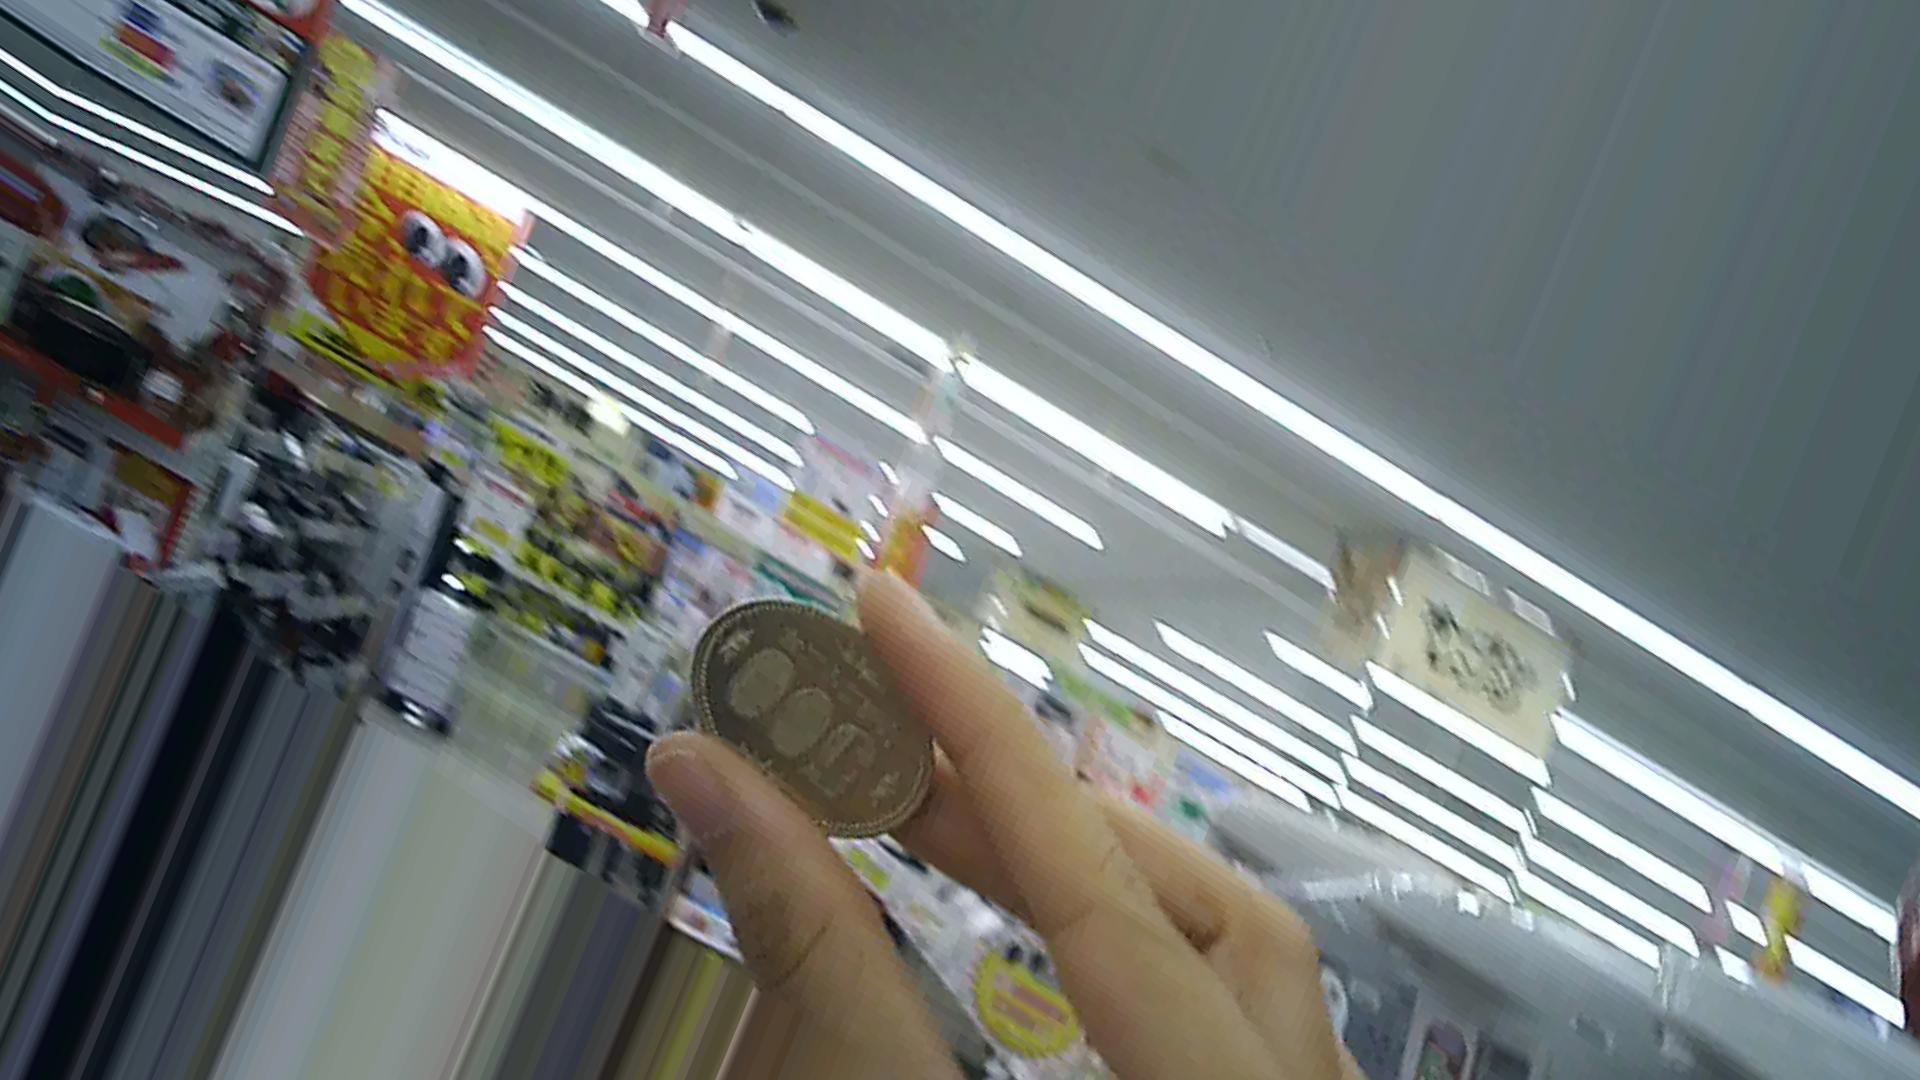500 Yen: (687, 583, 957, 843)
